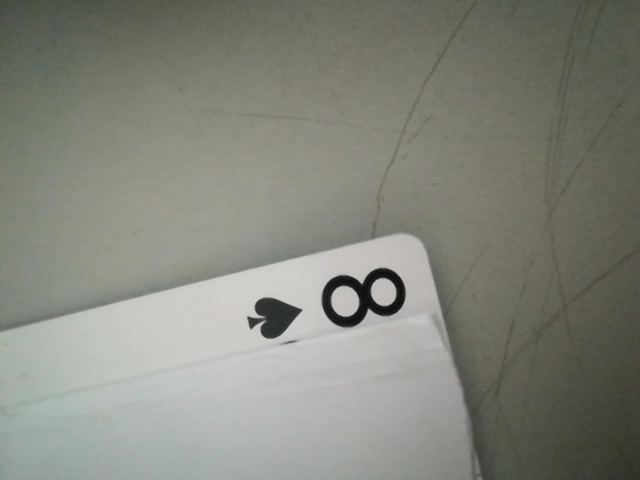ht 8: (230, 256, 430, 347)
